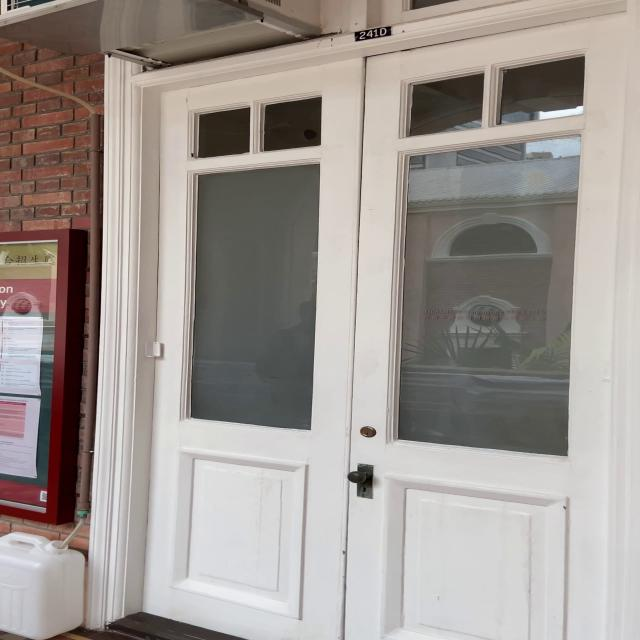room241d: (353, 25, 391, 41)
